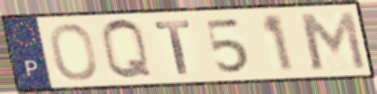1: (260, 12, 297, 75)
5: (203, 16, 252, 75)
M: (295, 9, 369, 72)
O: (47, 21, 100, 83)
Q: (98, 17, 156, 83)
T: (152, 19, 193, 77)
